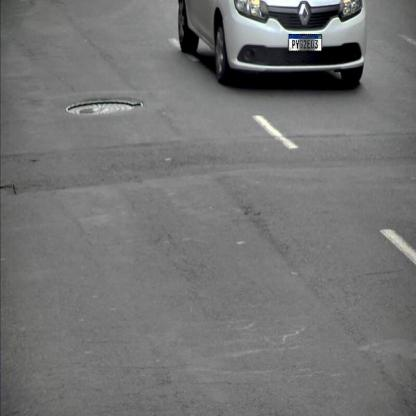PlacaM: (288, 34, 322, 51)
